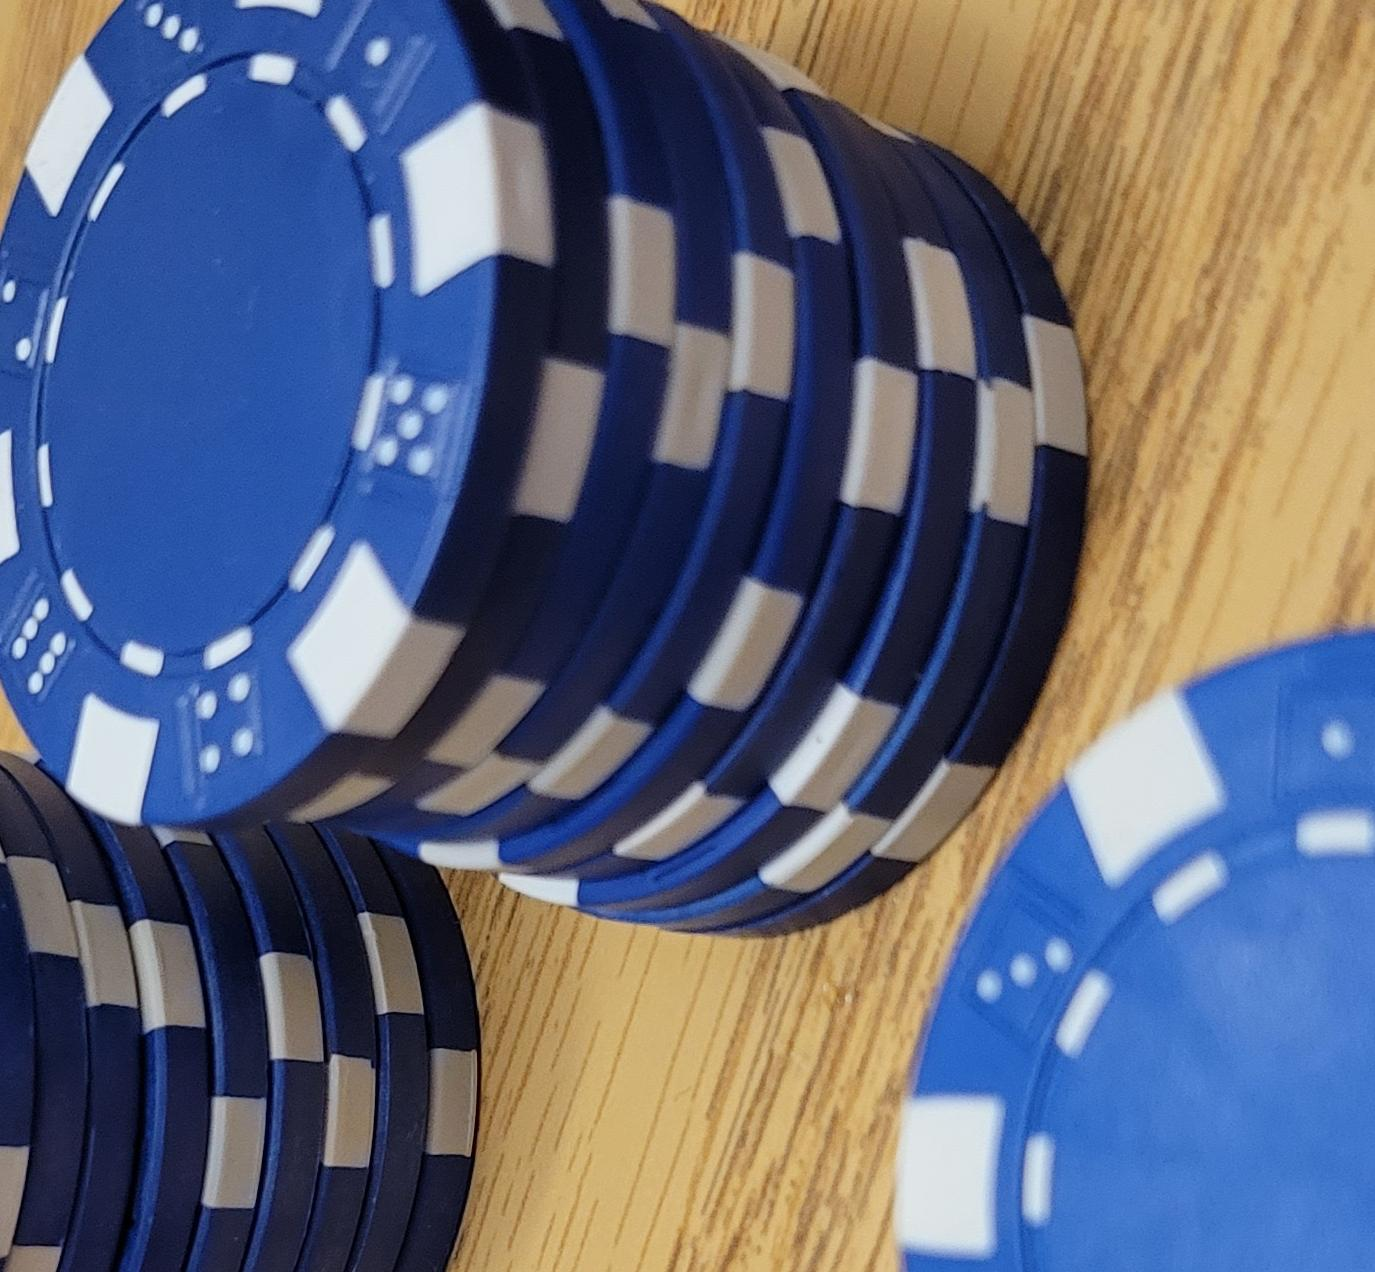Chip: (1, 107, 652, 1272)
